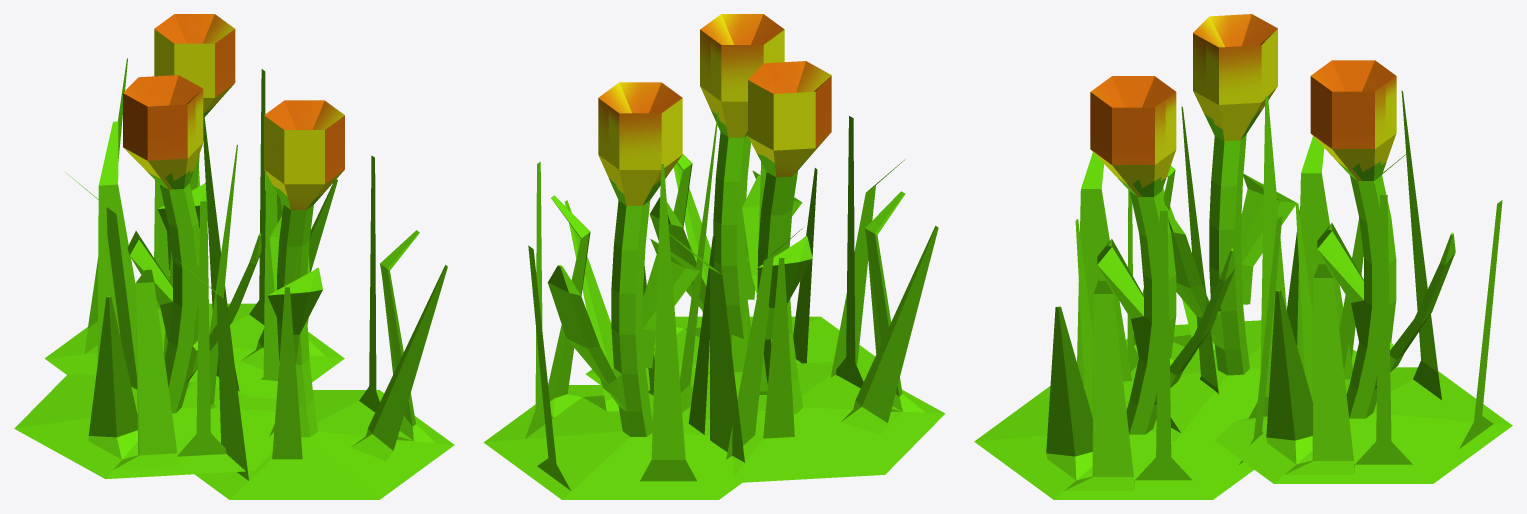
The model's file is FLowers orange.fbx.
The picture shows the model from 3 angles, left to right: view 1: azimuth 30°, elevation 25°; view 2: azimuth 150°, elevation 25°; view 3: azimuth 270°, elevation 25°; orthographic projection. The views are drawn at different scales.
Visible parts, largest first — view 1: Cylinder.002, Cylinder.001, Cylinder; view 2: Cylinder, Cylinder.002, Cylinder.001; view 3: Cylinder, Cylinder.001, Cylinder.002.
Boxes of the visible parts, left/top/right/bottom form: Cylinder.002: left=14, top=75, right=299, bottom=479; Cylinder.001: left=176, top=100, right=454, bottom=499; Cylinder: left=45, top=14, right=344, bottom=398; Cylinder: left=483, top=82, right=802, bottom=499; Cylinder.002: left=668, top=61, right=945, bottom=482; Cylinder.001: left=585, top=14, right=905, bottom=395; Cylinder: left=1214, top=60, right=1512, bottom=483; Cylinder.001: left=974, top=76, right=1282, bottom=499; Cylinder.002: left=1083, top=14, right=1406, bottom=442.
Bounding box in the file's own units: 248 × 248 × 334.
